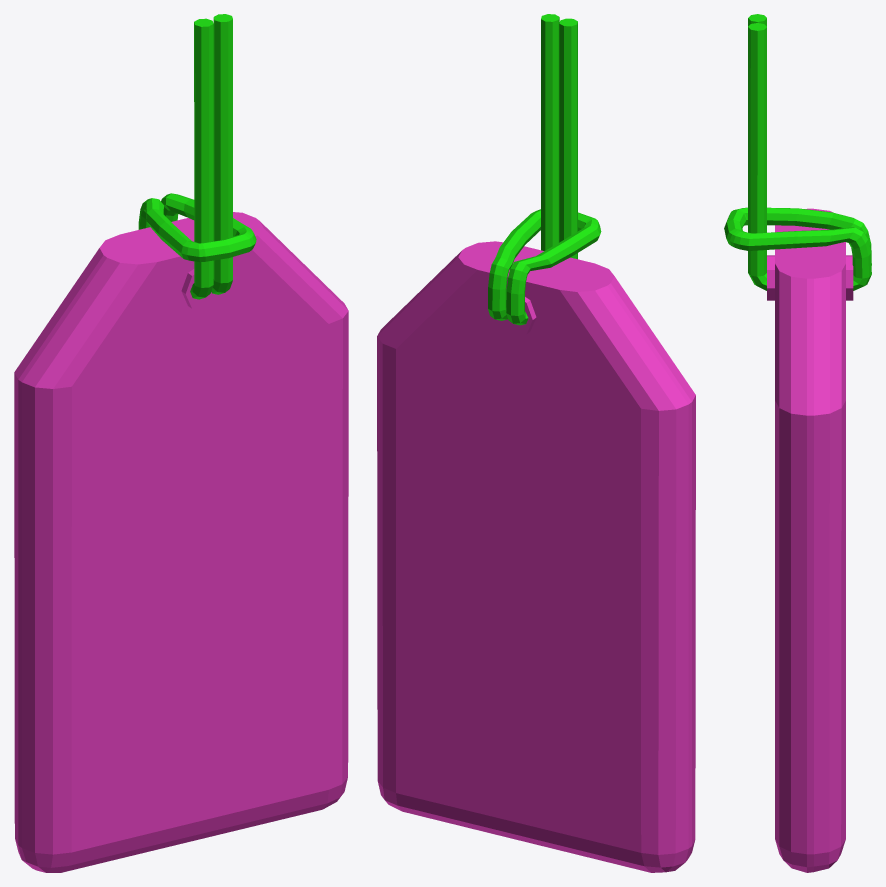
Rendered from Amuleto.fbx.
The picture shows the model from 3 angles, left to right: view 1: azimuth 30°, elevation 25°; view 2: azimuth 150°, elevation 25°; view 3: azimuth 270°, elevation 25°; orthographic projection. The views are drawn at different scales.
Parts seen in each view (by area): view 1: Cube, Cube.001; view 2: Cube, Cube.001; view 3: Cube, Cube.001.
Part boxes in pixels (x1,y1,x2,y2): Cube: (14,14,348,872); Cube.001: (181,269,226,311); Cube: (377,14,695,872); Cube.001: (494,297,536,336); Cube: (724,14,871,872); Cube.001: (767,255,853,300).
Size of the model in its own units: 246 by 610 by 104.
